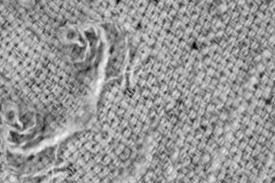snag: (54, 19, 153, 98), (2, 102, 89, 160)
